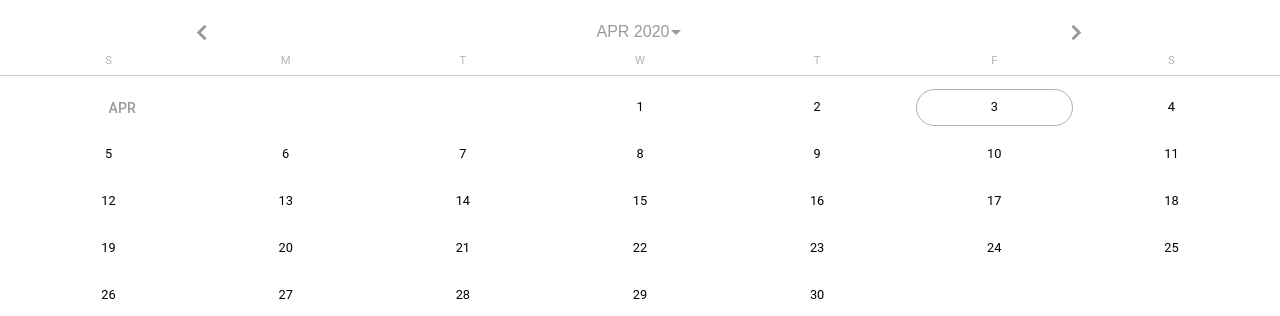
Test: Header buttons › Clicking the period button once changes to the year selection view
Click the button "APR 2020" at (640, 32), box x1=556 y1=16 x2=723 y2=48
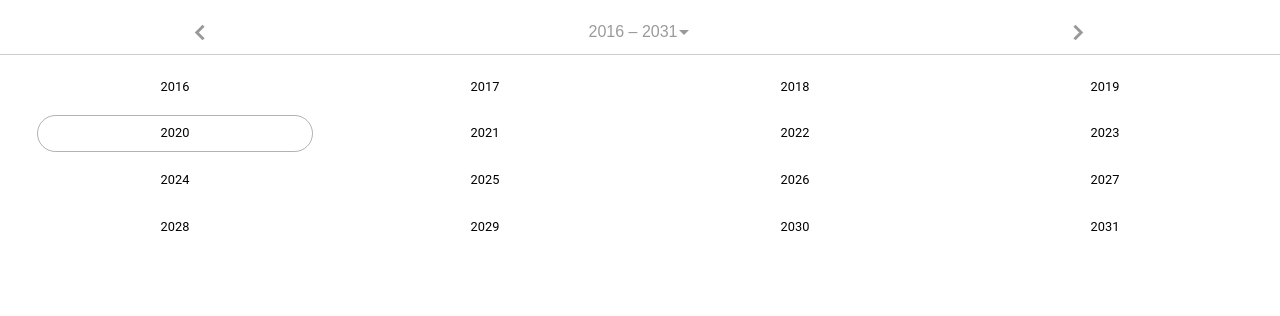
Now the button "2016 – 2031" is shown, box x1=548 y1=16 x2=732 y2=48
Now the cell "2016" is shown, box x1=20 y1=63 x2=330 y2=110
